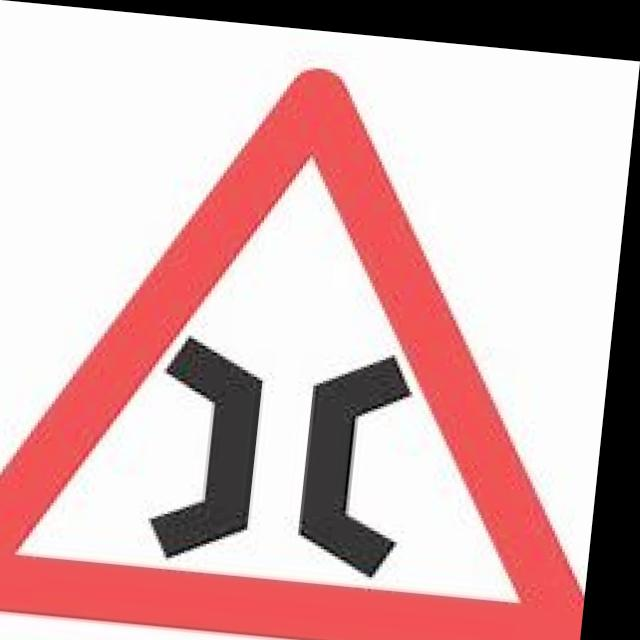NARROW_BRIDGE: (0, 40, 637, 640)
